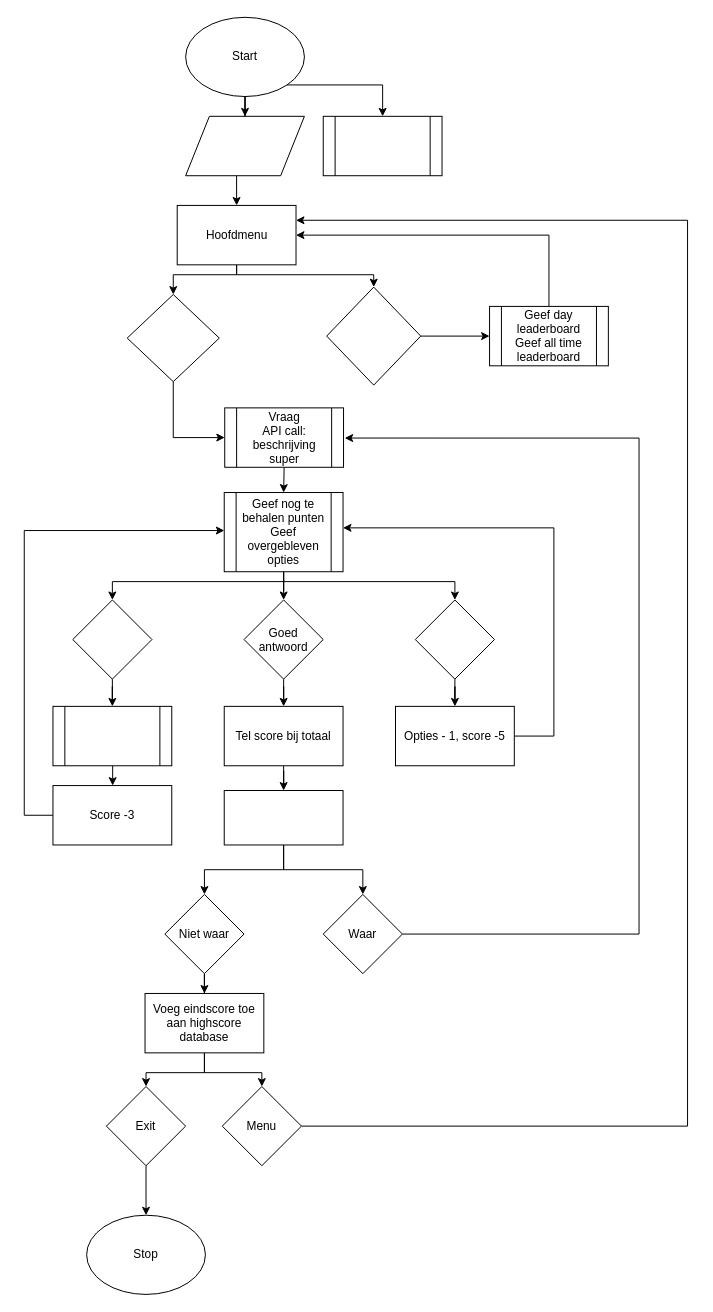
Some shapes in this 713 by 1312 pixel diagram are drawn without their labels. The shapes that lost their labels are listed below. From the top down, each one's centre as x and y in pixels, then its label:
At pixel 244 145: "Vraag naam speler".
At pixel 382 145: "API call: Eerste 2 calls worden geladen".
At pixel 172 338: "Start quiz".
At pixel 373 335: "Leaderboards".
At pixel 112 639: "Hint".
At pixel 454 639: "Fout antwoord".
At pixel 112 735: "Geef hint vanuit API".
At pixel 283 817: "Vraag < 10".
